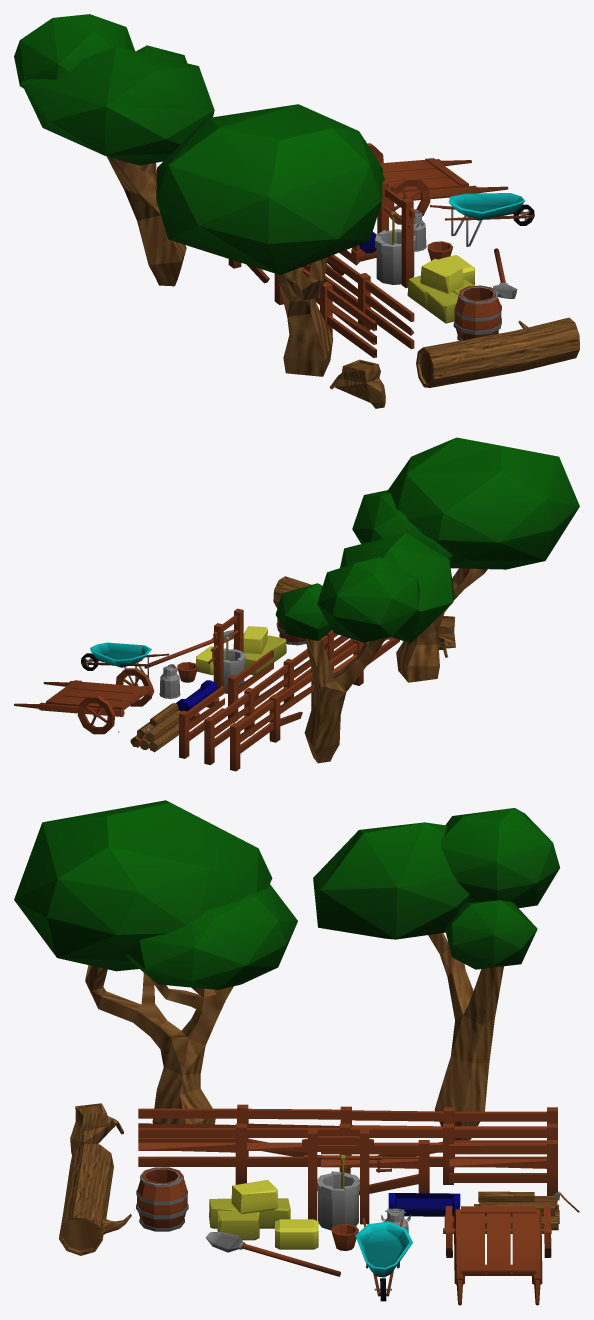
Rendered from PROPS.fbx.
The picture shows the model from 3 angles, top to bottom: view 1: azimuth 30°, elevation 25°; view 2: azimuth 150°, elevation 25°; view 3: azimuth 270°, elevation 25°; orthographic projection. The views are drawn at different scales.
Visible parts, largest first — view 1: Icosphere.002, Plane.001, Cylinder.007, Cube.012, Cylinder.001, Cube.007, Cube.009, Cube.001, Cube.004, Cylinder.005, Plane; view 2: Icosphere.002, Plane.001, Cube.012, Cube.009, Cube.007, Cylinder.001, Cube.004, Cylinder.003, Cube.005, Cube.001, Cube.006, Cube (+3 smaller); view 3: Icosphere.002, Plane.001, Cube.007, Cube.009, Cube.012, Cylinder.001, Cylinder.007, Cube.005, Cube.001, Cylinder.005, Cube.006, Cube.004 (+5 smaller).
Part boxes in pixels (x1,y1,x2,y2): Icosphere.002: (156, 104, 385, 376); Plane.001: (14, 14, 214, 286); Cylinder.007: (416, 317, 579, 387); Cube.012: (367, 143, 508, 224); Cylinder.001: (375, 180, 415, 287); Cube.007: (302, 255, 414, 349); Cube.009: (228, 259, 376, 357); Cube.001: (407, 258, 474, 323); Cube.004: (430, 193, 534, 246); Cylinder.005: (453, 285, 501, 340); Plane: (329, 359, 385, 408); Icosphere.002: (352, 437, 579, 682); Plane.001: (275, 533, 454, 763); Cube.012: (14, 668, 154, 734); Cube.009: (230, 637, 399, 771); Cube.007: (204, 630, 353, 765); Cylinder.001: (208, 608, 245, 696); Cube.004: (81, 642, 169, 684); Cylinder.003: (130, 703, 189, 752); Cube.005: (179, 686, 224, 758); Cube.001: (233, 626, 286, 675); Cube.006: (228, 650, 273, 722); Cube: (174, 680, 219, 720); Icosphere.002: (14, 800, 297, 1124); Plane.001: (313, 808, 559, 1140); Cube.007: (138, 1123, 557, 1184); Cube.009: (138, 1104, 557, 1168); Cube.012: (443, 1206, 551, 1305); Cylinder.001: (302, 1129, 391, 1230); Cylinder.007: (59, 1143, 131, 1255); Cube.005: (449, 1140, 557, 1200); Cube.001: (209, 1180, 290, 1240); Cylinder.005: (136, 1167, 188, 1231); Cube.006: (321, 1140, 429, 1195); Cube.004: (355, 1217, 412, 1301).
Bounding box in the file's own units: 4303 × 2357 × 4057.
Materials: 1 (1 with a texture image).
